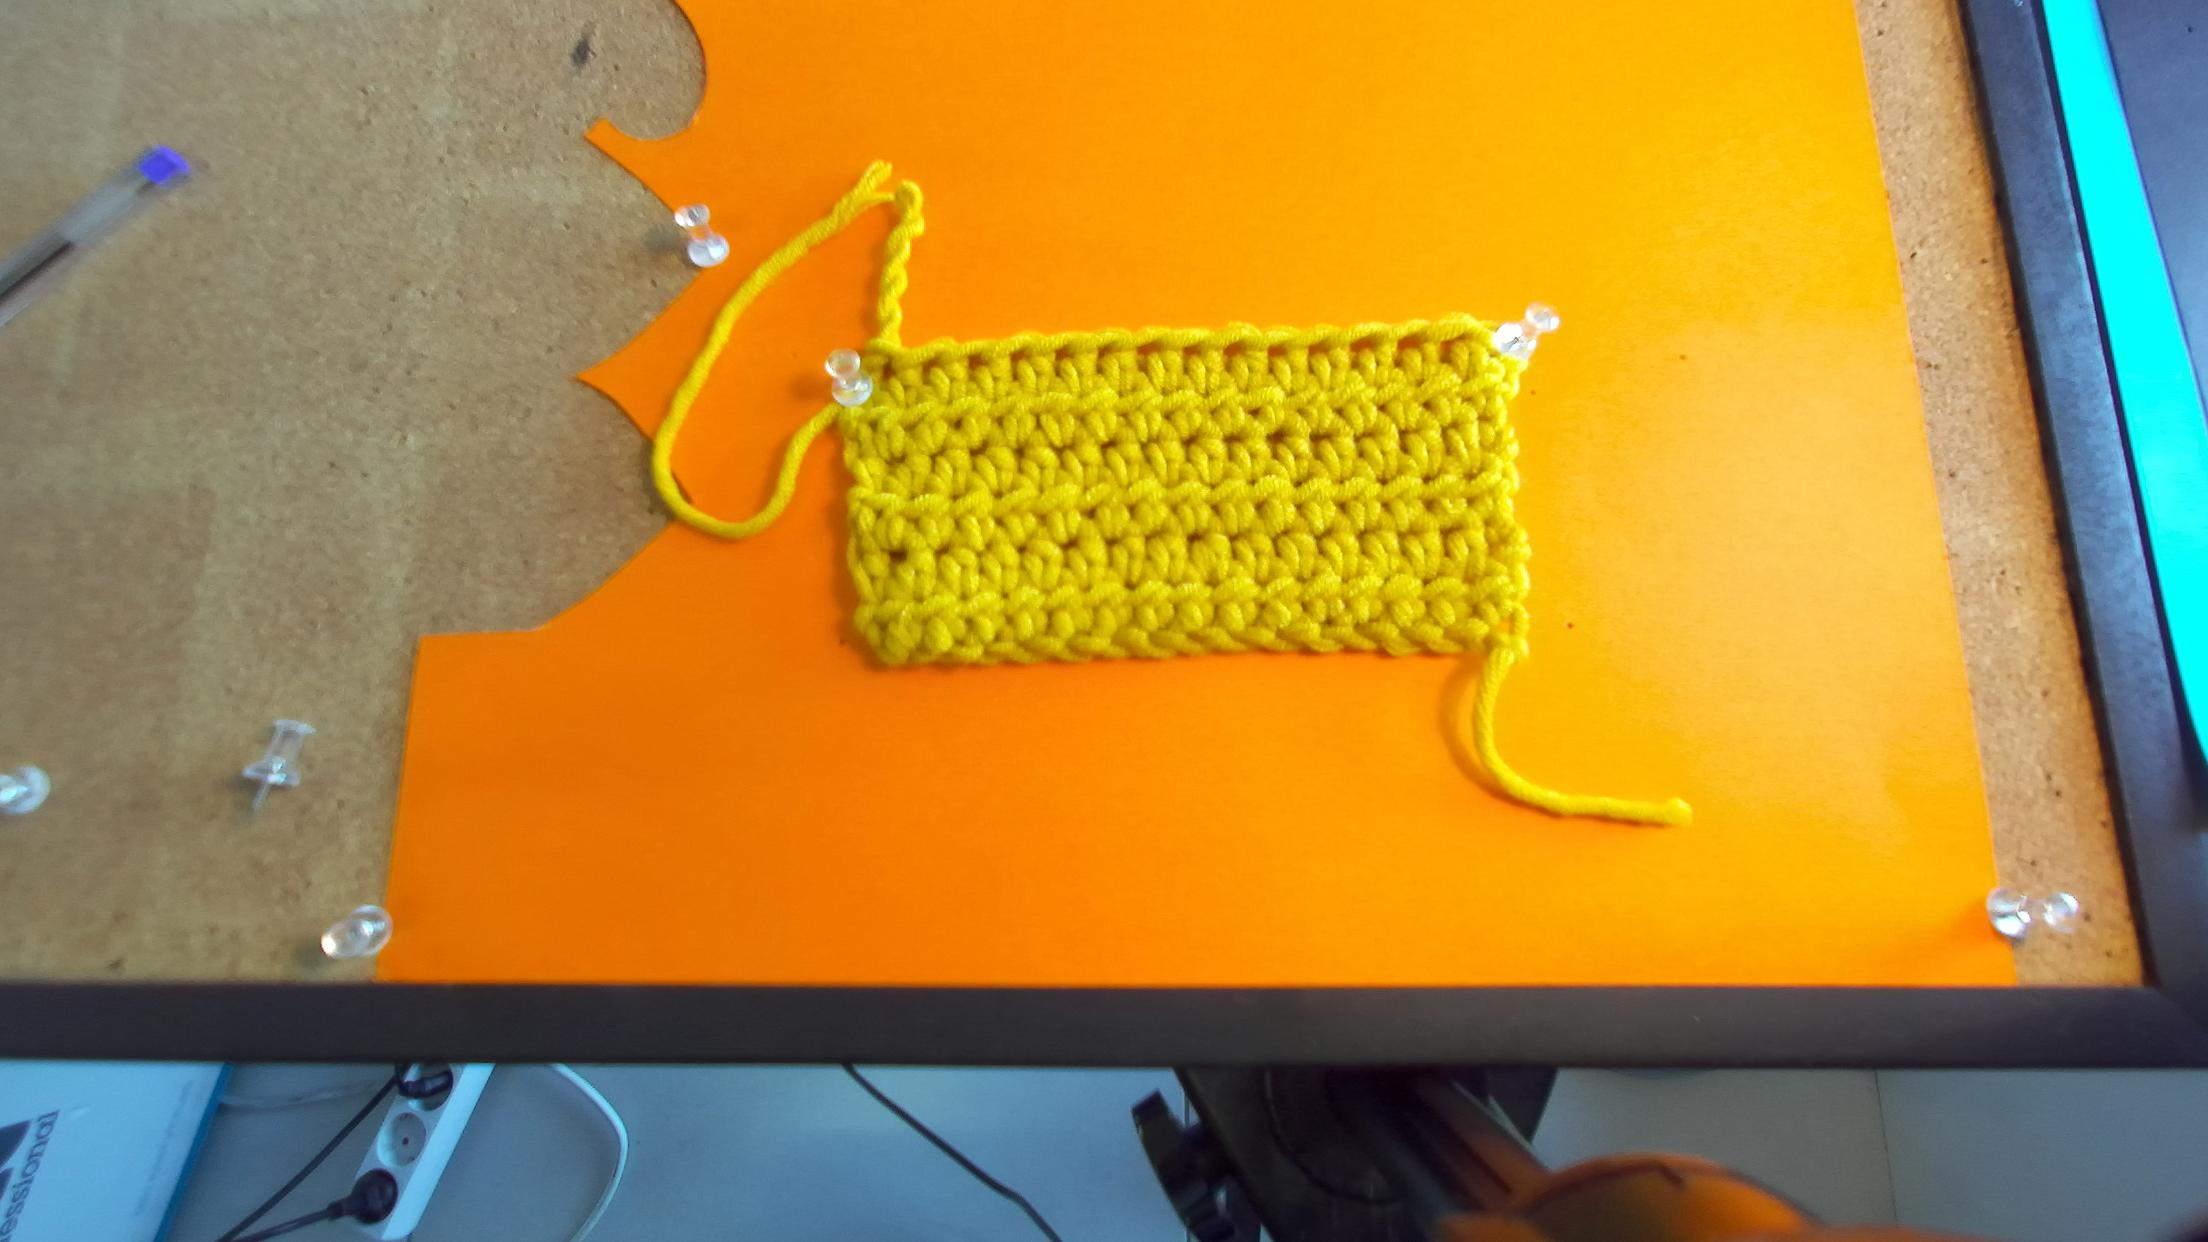hole: (1396, 333, 1424, 352), (879, 358, 898, 384), (1440, 333, 1467, 351), (921, 355, 942, 377), (1223, 339, 1245, 360), (965, 352, 988, 371), (1349, 337, 1375, 353), (1307, 340, 1327, 359), (1137, 341, 1160, 357), (1009, 348, 1028, 366), (1053, 343, 1069, 362), (1268, 343, 1285, 360), (1097, 344, 1113, 362), (1183, 343, 1201, 357)
swatch: (830, 317, 1533, 677)
